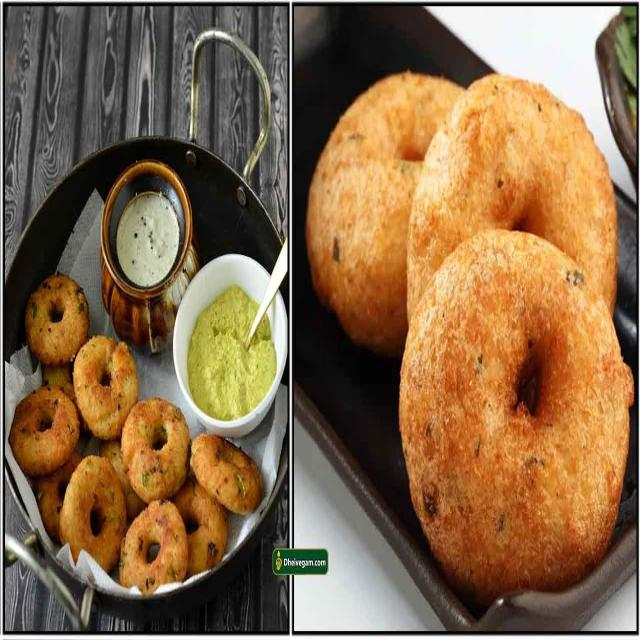chutney: (111, 184, 182, 291)
medu vadai: (399, 230, 633, 606), (406, 75, 616, 320), (306, 72, 462, 356), (61, 456, 127, 570), (122, 398, 191, 502), (74, 336, 138, 439), (9, 386, 79, 475), (120, 501, 188, 591), (190, 433, 263, 516), (25, 275, 89, 365), (173, 479, 228, 577), (33, 450, 86, 547)
puthina chutney: (179, 284, 280, 416)
